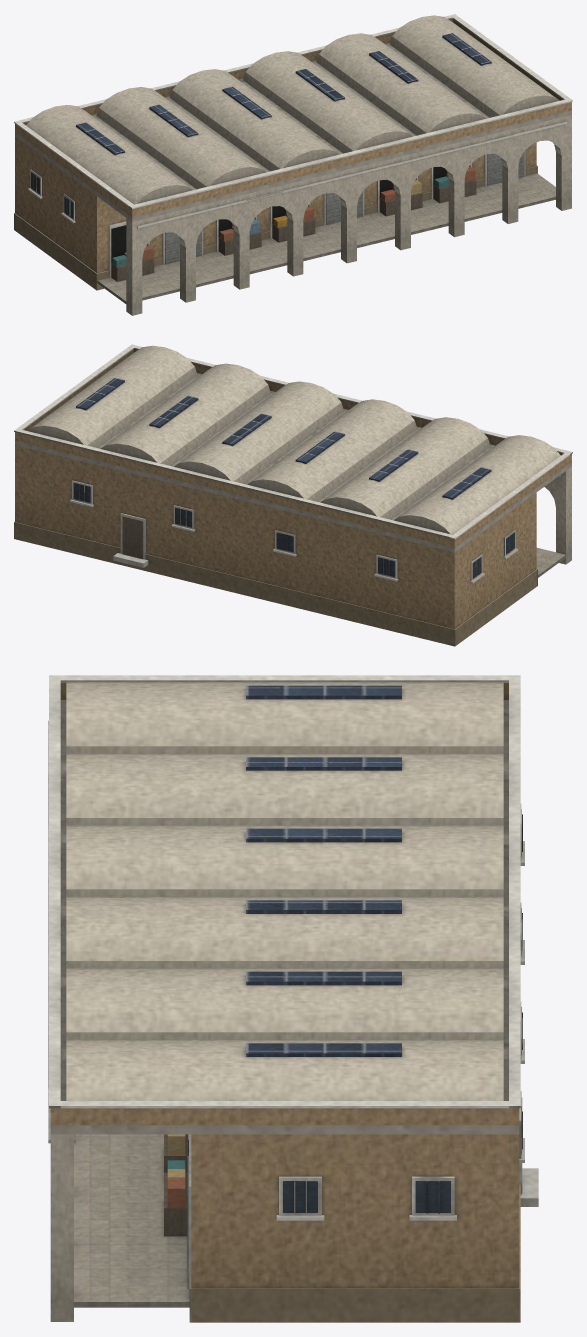
Rendered from civ_market.glb.
The picture shows the model from 3 angles, top to bottom: view 1: azimuth 30°, elevation 25°; view 2: azimuth 150°, elevation 25°; view 3: azimuth 270°, elevation 25°; orthographic projection. The views are drawn at different scales.
Parts seen in each view (by area): view 1: civ_market; view 2: civ_market; view 3: civ_market.
Part boxes in pixels (x1=…): civ_market: x1=14, y1=14, x2=572, y2=315; civ_market: x1=14, y1=344, x2=572, y2=646; civ_market: x1=48, y1=675, x2=538, y2=1322.
Bounding box in the file's own units: 26.3 × 6.72 × 12.56.
1 material, 1 textured.
